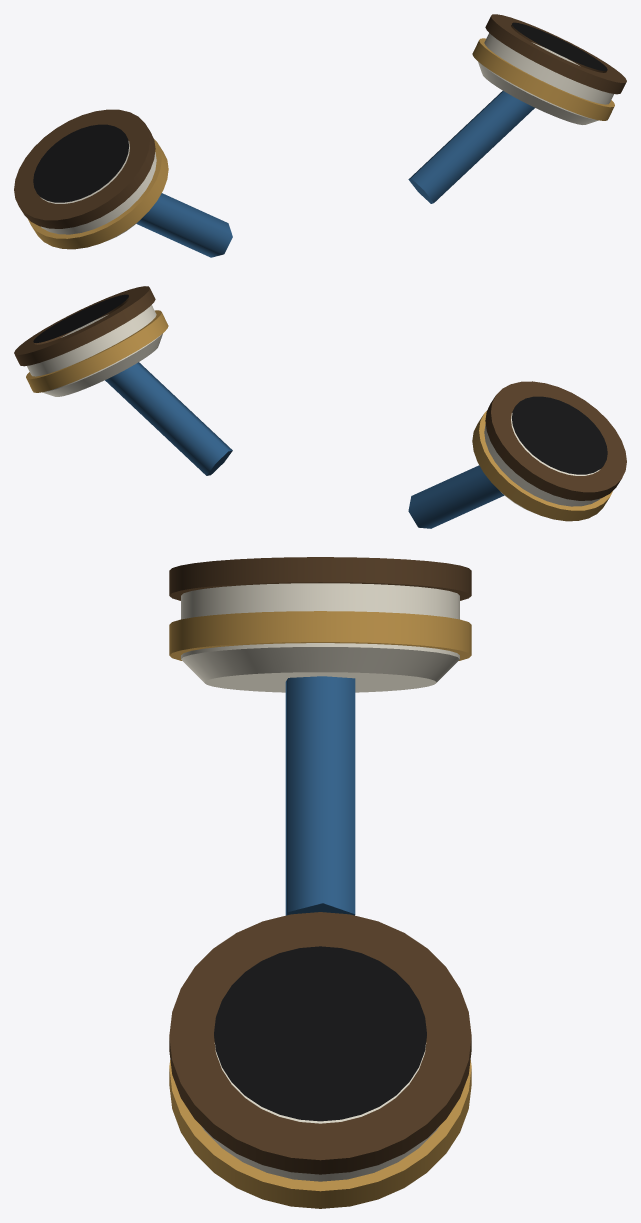
File: rm2_thrusters_fore.obj
The picture shows the model from 3 angles, top to bottom: view 1: azimuth 30°, elevation 25°; view 2: azimuth 150°, elevation 25°; view 3: azimuth 270°, elevation 25°; orthographic projection. The views are drawn at different scales.
Visible parts, largest first — view 1: rm2_thrusters_fore; view 2: rm2_thrusters_fore; view 3: rm2_thrusters_fore.
Part boxes in pixels (bbox=[...]): rm2_thrusters_fore: bbox=[14, 14, 626, 257]; rm2_thrusters_fore: bbox=[14, 286, 626, 528]; rm2_thrusters_fore: bbox=[169, 557, 471, 1208].
Size of the model in its own units: 0.703 by 0.18 by 0.156.
